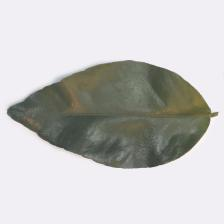healthy: (27, 72, 208, 160)
